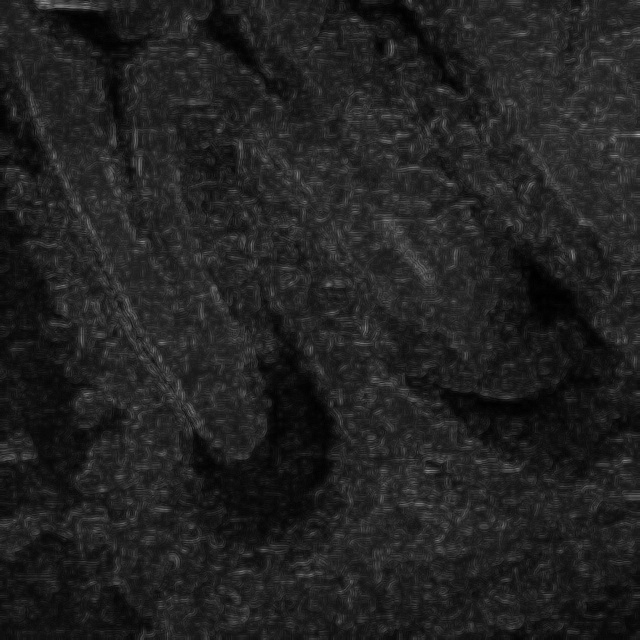Class 2- incomplete endodontic treatment: (1, 0, 621, 564)
